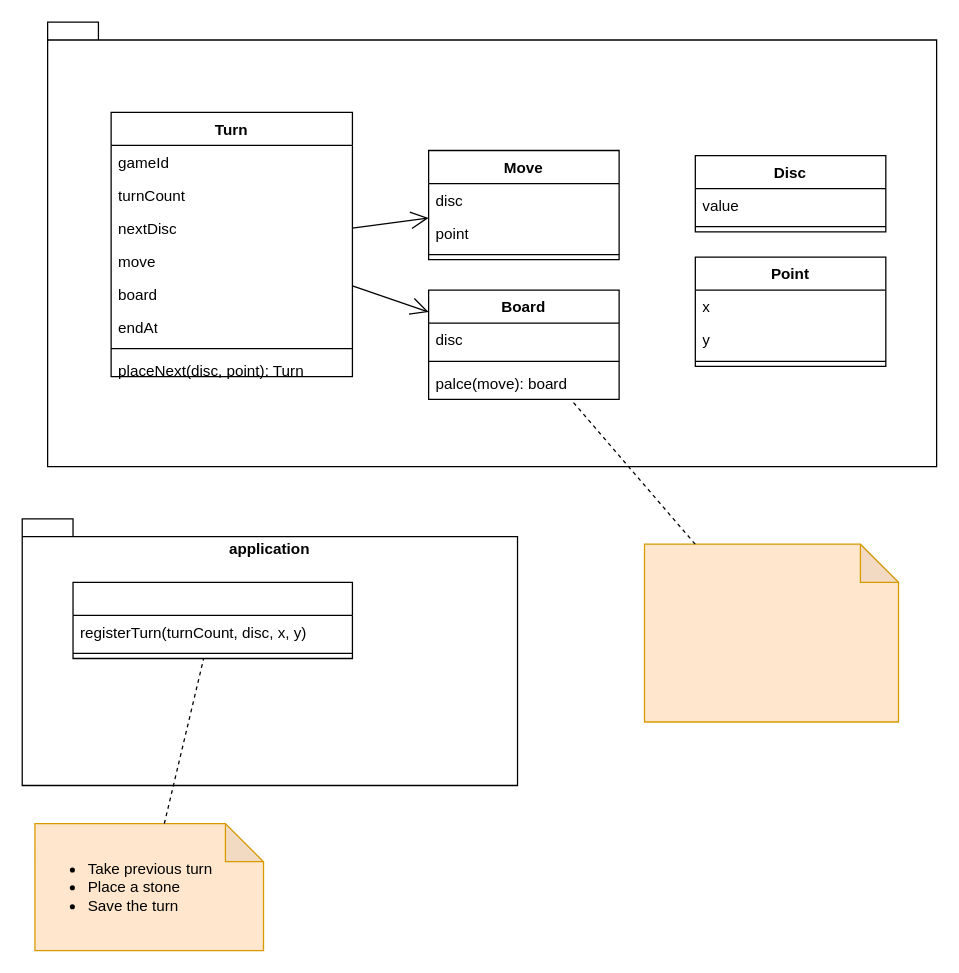
The diagram is 959 pixels wide and 973 high, and some of its shapes have lost their labels. Here are the shapes that lost their labels. From the top down, the box of each, then its label:
(46, 21, 937, 467): domain
(72, 581, 352, 658): TurnService
(643, 543, 899, 722): Inside the place Check if you can place a stone Place a stone Reverse
